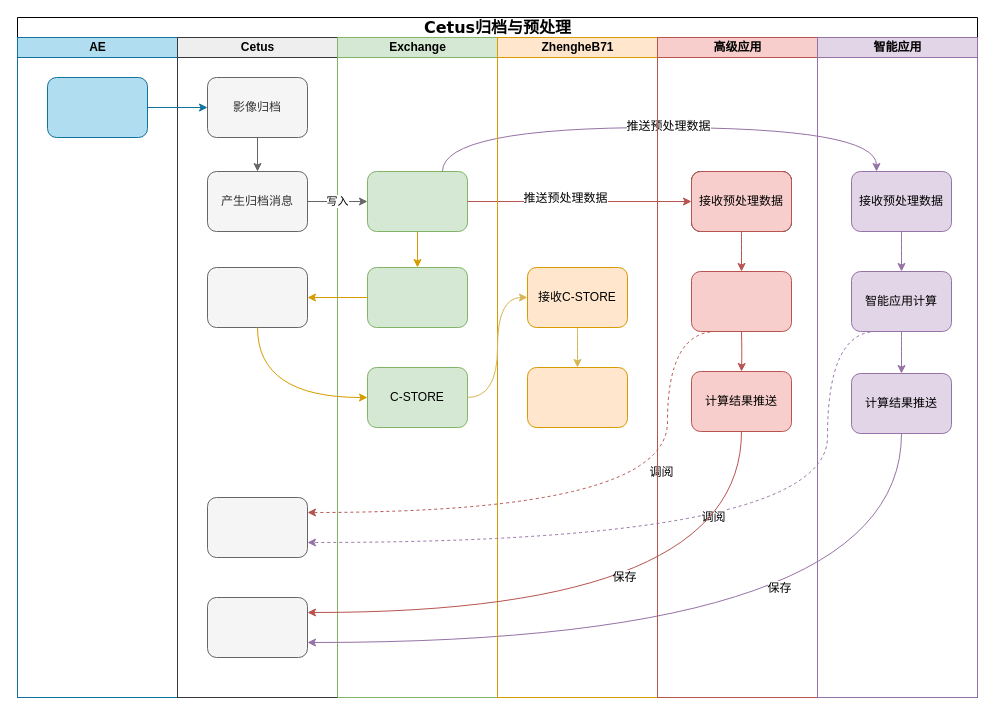
Image size: 995x715. Some labels were removed from this diagram. Here are the shapes that lost their labels. From the top down, the centre of each, then its label:
At point 97,107: "设备拍片".
At point 417,201: "接收归档消息".
At point 257,297: "影像数据".
At point 417,297: "C-GET".
At point 741,301: "高级应用计算".
At point 577,397: "保存影像 建立索引".
At point 257,527: "影像调阅".
At point 257,627: "保存计算结果".
